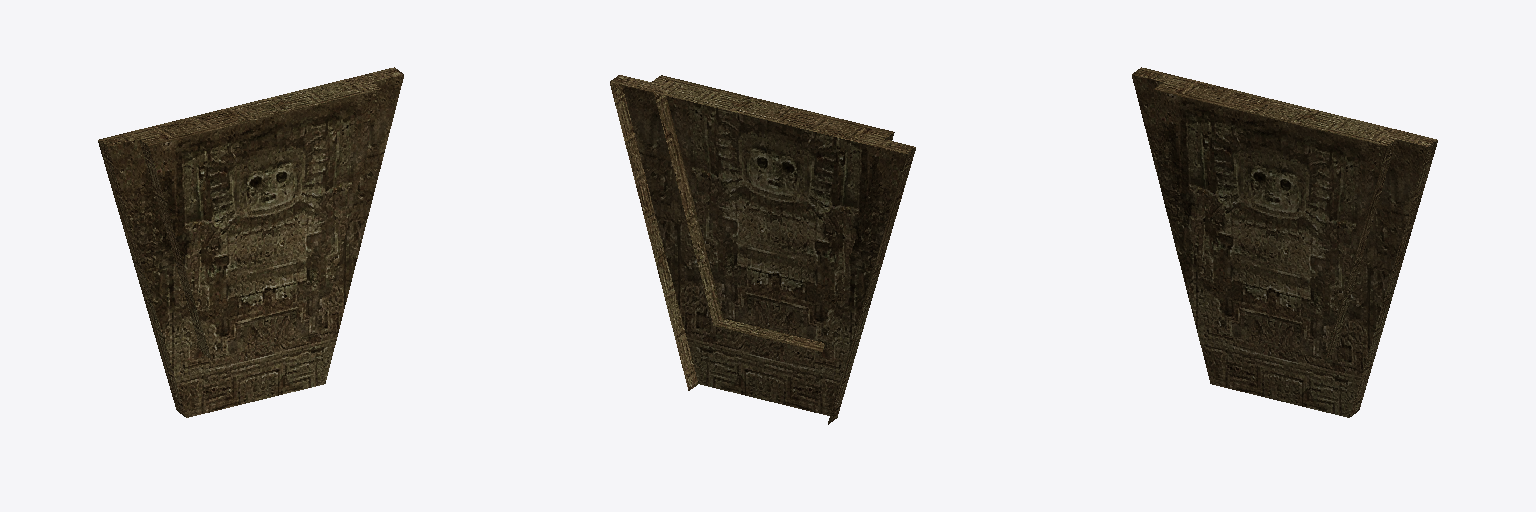
3 views of the same model, side by side, from view 1: azimuth 30°, elevation 25°; view 2: azimuth 150°, elevation 25°; view 3: azimuth 330°, elevation 25° (orthographic).
Visible parts, largest first — view 1: Box003; view 2: Box003; view 3: Box003.
Boxes of the visible parts, box(x1,y1,x2,y2) form: Box003: box(98, 67, 403, 417); Box003: box(610, 75, 915, 424); Box003: box(1132, 67, 1437, 417).
Size of the model in its own units: 2193 by 2048 by 256.
1 materials, 1 textured.